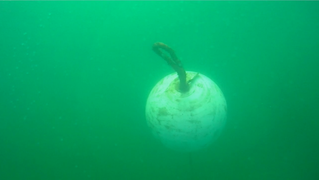buoy: (144, 70, 228, 155)
